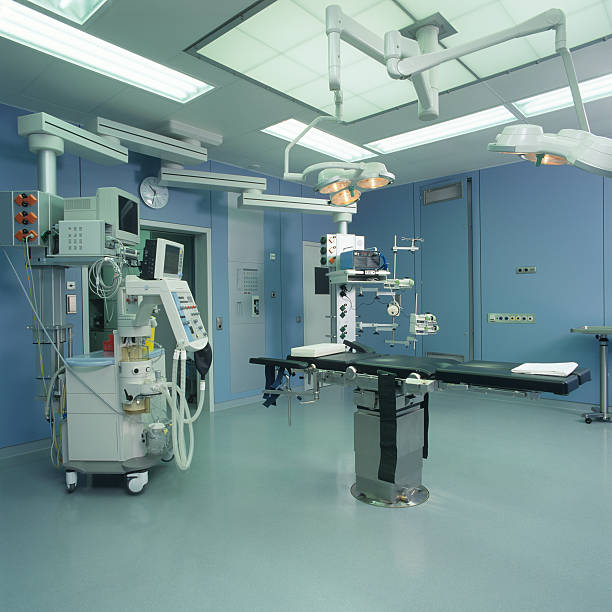bedside_monitor: (61, 185, 140, 239), (156, 237, 185, 279)
breathing_tube: (147, 343, 207, 470)
electrosurgical_unit: (338, 249, 390, 272)
iv_pole: (391, 232, 436, 357)
operating_bed: (248, 340, 592, 511)
surgical_light: (489, 124, 612, 178), (301, 162, 395, 207)
utility_cart: (568, 321, 612, 425)
ventilator: (61, 238, 212, 498), (56, 235, 206, 478)
